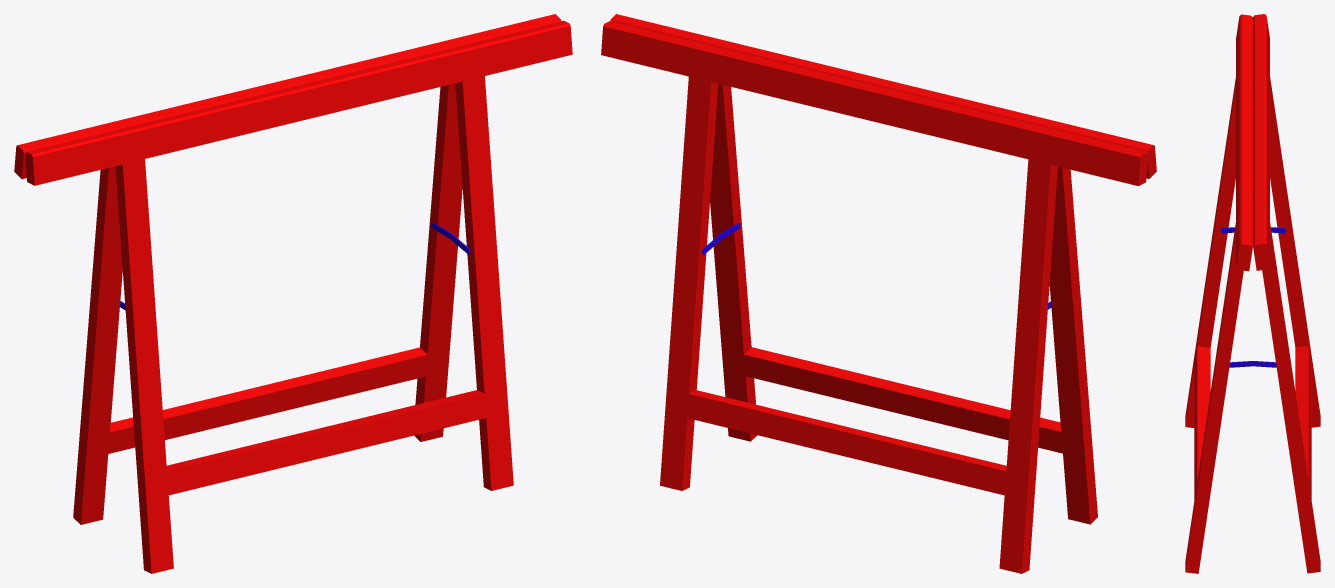
Rendered from Treteau.FBX.
The picture shows the model from 3 angles, left to right: view 1: azimuth 30°, elevation 25°; view 2: azimuth 150°, elevation 25°; view 3: azimuth 270°, elevation 25°; orthographic projection. The views are drawn at different scales.
Visible parts, largest first — view 1: Box004; view 2: Box004; view 3: Box004.
Boxes of the visible parts, x1,y1,x2,y2 form: Box004: (14,14,572,573); Box004: (601,14,1156,573); Box004: (1185,14,1320,573).
Size of the model in its own units: 80.32 by 59.7 by 19.99.
